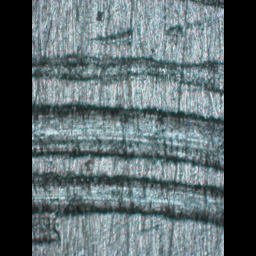d: (32, 40, 223, 236)
